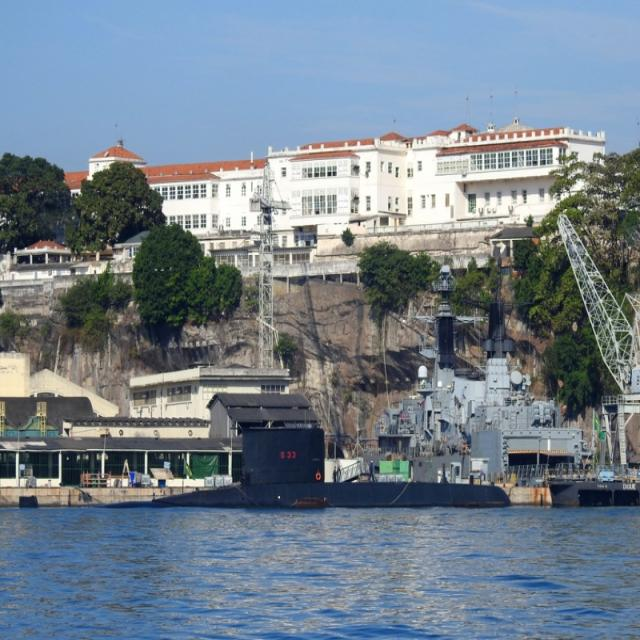submarine: (114, 433, 523, 504)
